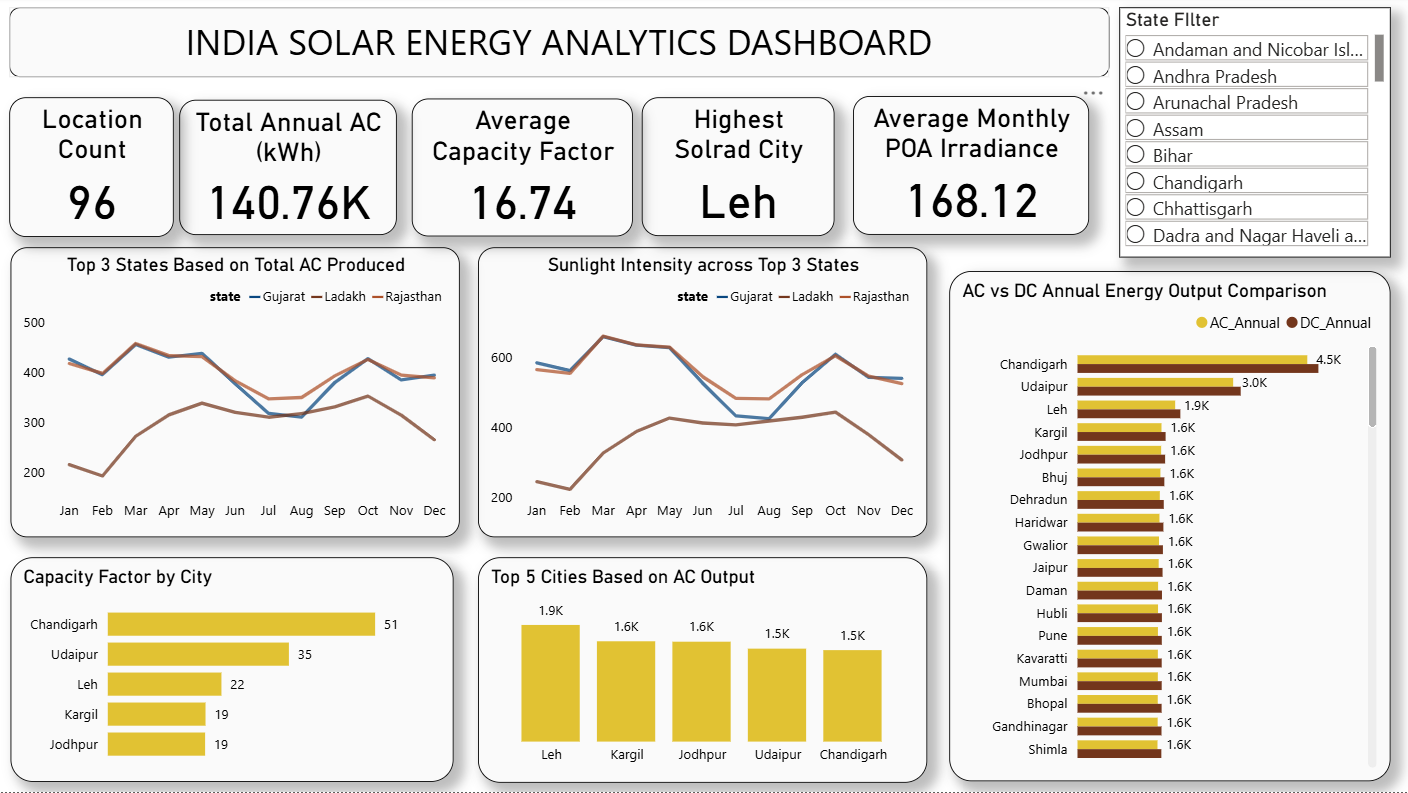

Layout of this report page (visuals, bound fields, positions):
{"tool":"powerbi","page":{"name":"Page 1","canvas":[1280,720],"ordinal":0},"visuals":[{"type":"lineChart","title":"Top 3 States Based on Total AC Produced","fields":{"Y":["Sum(fact_monthly.ac_monthly)"],"Series":["dim_location.state"],"Category":["fact_monthly.MonthName"]},"box":[16.2,266.2,406.2,217.5],"z":0},{"type":"textbox","box":[13.8,15,626.2,77.5],"z":1},{"type":"lineChart","title":"Sunlight Intensity across Top 3 States","fields":{"Y":["Sum(fact_monthly.poa_monthly)"],"Series":["dim_location.state"],"Category":["fact_monthly.MonthName"]},"box":[440,266.2,400,217.5],"z":2},{"type":"columnChart","title":"Top 5 Cities Based on AC Output","fields":{"Category":["dim_location.city"],"Y":["Avg(fact_annual.ac_annual)"]},"box":[433.8,507.5,406.2,203.8],"z":3},{"type":"card","title":"Location Count","fields":{"Values":["dim_location.total_locations"]},"box":[18.8,91.2,172.5,163.8],"z":5},{"type":"card","title":"Total Annual AC (kWh)","fields":{"Values":["Sum(fact_annual.ac_annual)"]},"box":[207.5,91.2,252.5,163.8],"z":6},{"type":"card","title":"Highest Solrad City","fields":{"Values":["Min(dim_location.city)"]},"box":[723.8,92.5,206.2,163.8],"z":7},{"type":"card","title":"Average Monthly POA Irradiance","fields":{"Values":["Avg(fact_monthly.poa_monthly)"]},"box":[945,92.5,298.8,163.8],"z":8},{"type":"barChart","title":"Capacity Factor by City","fields":{"Category":["dim_location.city"],"Y":["Sum(fact_annual.capacity_factor)"]},"box":[18.8,507.5,401.2,203.8],"z":9},{"type":"card","title":"Average Capacity Factor","fields":{"Values":["Avg(fact_annual.capacity_factor)"]},"box":[483.8,92.5,222.5,163.8],"z":10},{"type":"clusteredBarChart","title":"AC vs DC Annual Energy Output Comparison","fields":{"Category":["dim_location.city"],"Y":["fact_monthly.AC_Annual","fact_monthly.DC_Annual"]},"box":[851.2,266.2,392.5,445],"z":11}]}

Visuals, with their boxes in screenshot pixels (x1, y1, x2, y2), scaled from the page's 1280x720 canvas onto the 1408x793 screenshot:
"Top 3 States Based on Total AC Produced" lineChart: 18, 293, 465, 533
textbox: 15, 17, 704, 102
"Sunlight Intensity across Top 3 States" lineChart: 484, 293, 924, 533
"Top 5 Cities Based on AC Output" columnChart: 477, 559, 924, 783
"Location Count" card: 21, 100, 210, 281
"Total Annual AC (kWh)" card: 228, 100, 506, 281
"Highest Solrad City" card: 796, 102, 1023, 282
"Average Monthly POA Irradiance" card: 1040, 102, 1368, 282
"Capacity Factor by City" barChart: 21, 559, 462, 783
"Average Capacity Factor" card: 532, 102, 777, 282
"AC vs DC Annual Energy Output Comparison" clusteredBarChart: 936, 293, 1368, 783
